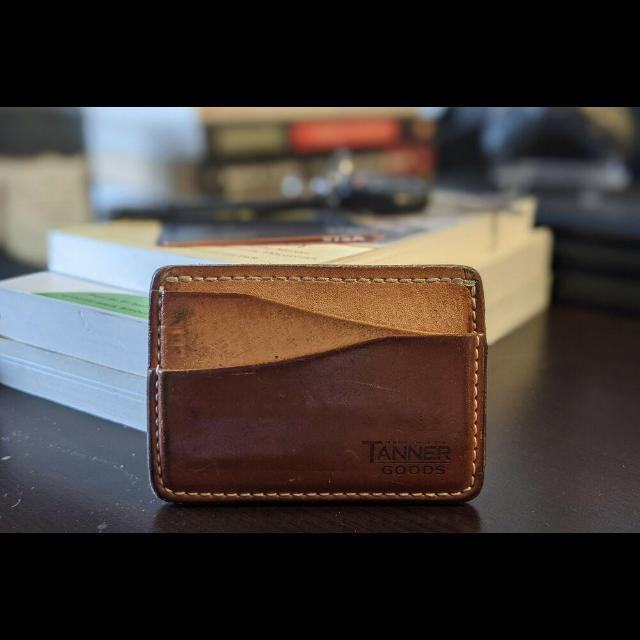wallet: (145, 261, 485, 504)
